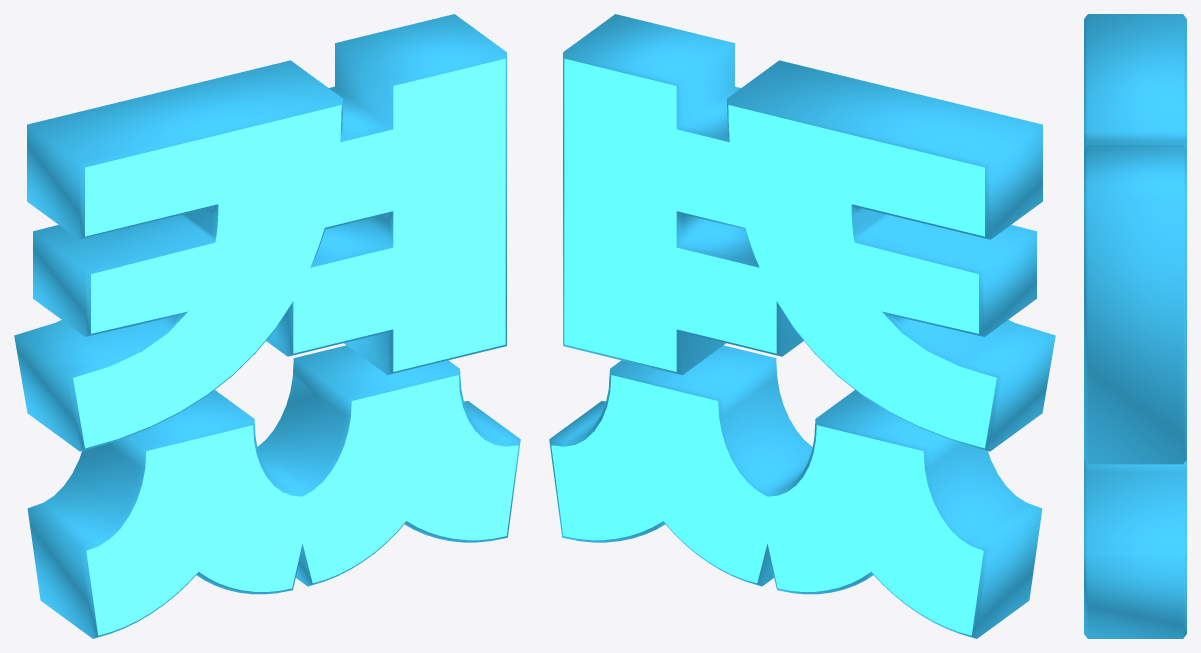
3 views of the same model, side by side, from view 1: azimuth 30°, elevation 25°; view 2: azimuth 150°, elevation 25°; view 3: azimuth 270°, elevation 25° (orthographic). The views are drawn at different scales.
Visible parts, largest first — view 1: glyph; view 2: glyph; view 3: glyph.
Boxes of the visible parts, <box> form: glyph: <box>14,14,520,638</box>; glyph: <box>549,14,1055,638</box>; glyph: <box>1084,14,1186,638</box>.
Size of the model in its own units: 0.075 by 0.0766 by 0.0162.
